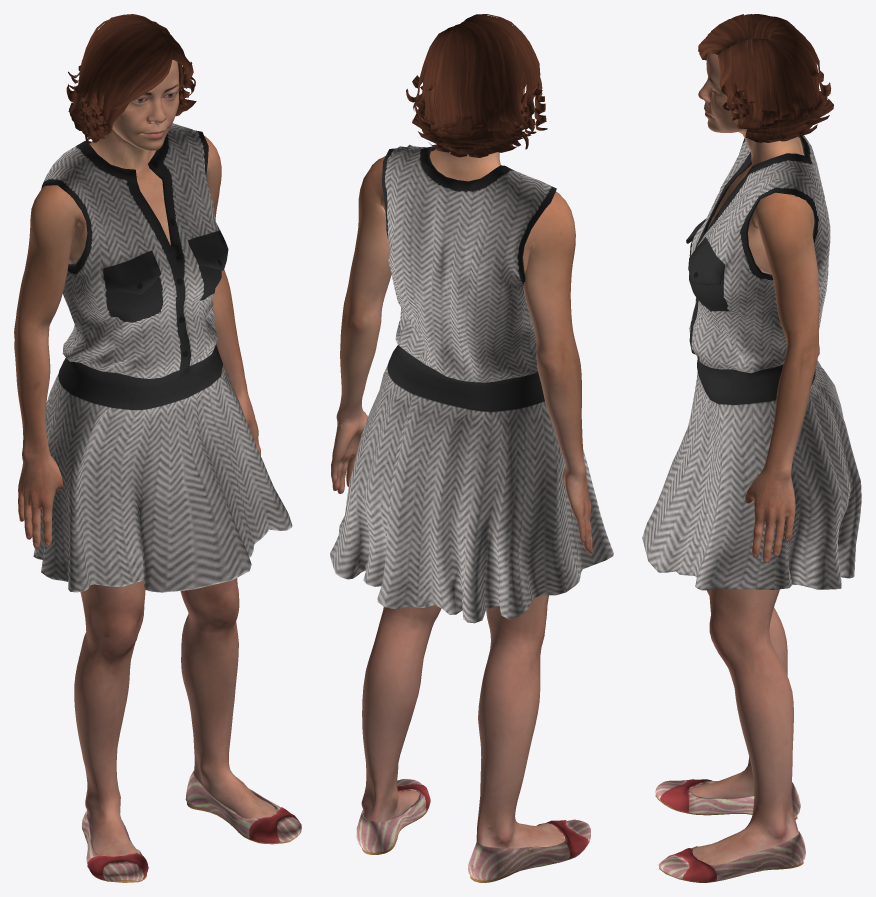
File: Female Human Avatar.glb
3 renders of one model, left to right at view 1: azimuth 30°, elevation 25°; view 2: azimuth 150°, elevation 25°; view 3: azimuth 270°, elevation 25°, orthographic. The views are drawn at different scales.
Visible parts, largest first — view 1: node-0; view 2: node-0; view 3: node-0.
Boxes of the visible parts, <box> form: node-0: <box>14,14,301,882</box>; node-0: <box>330,14,613,882</box>; node-0: <box>642,14,861,882</box>.
Size of the model in its own units: 507 by 1646 by 406.
4 materials, 4 textured.
